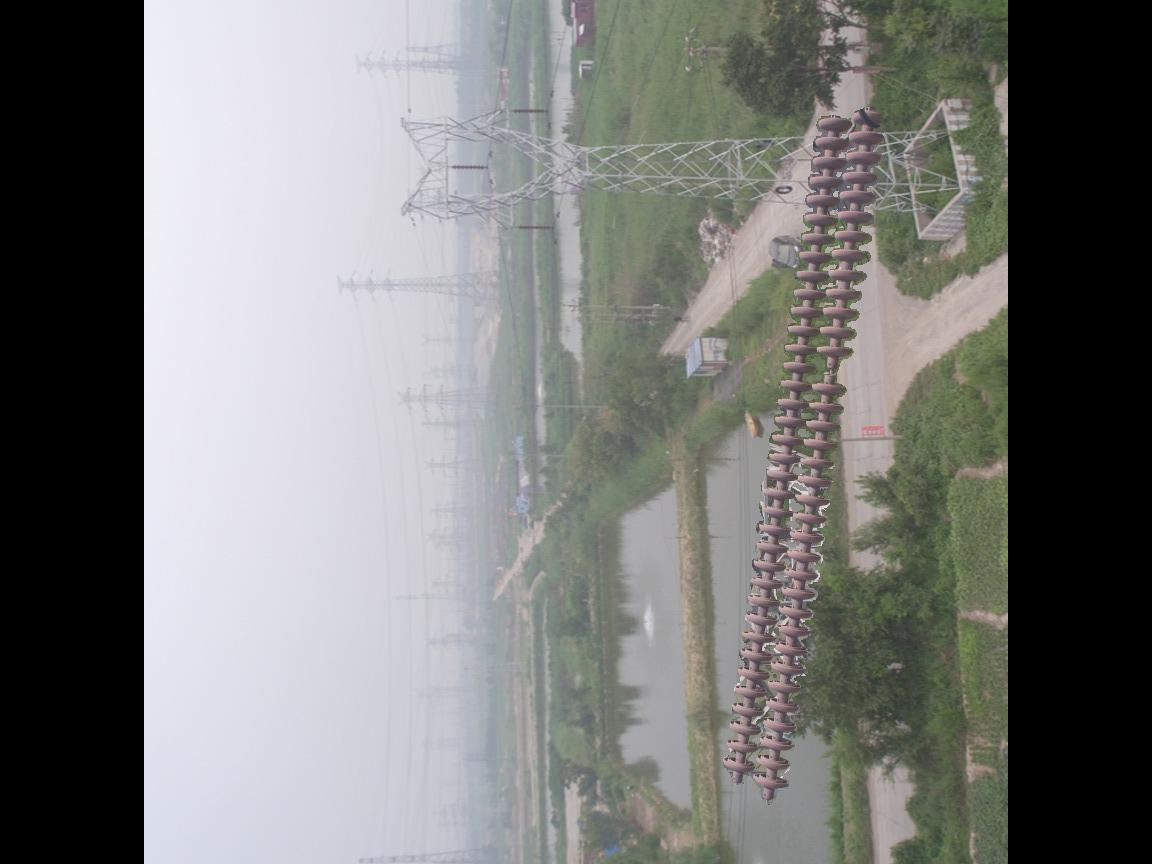insulator: (720, 103, 891, 803)
insulator_stringdrop: (806, 341, 855, 401)
